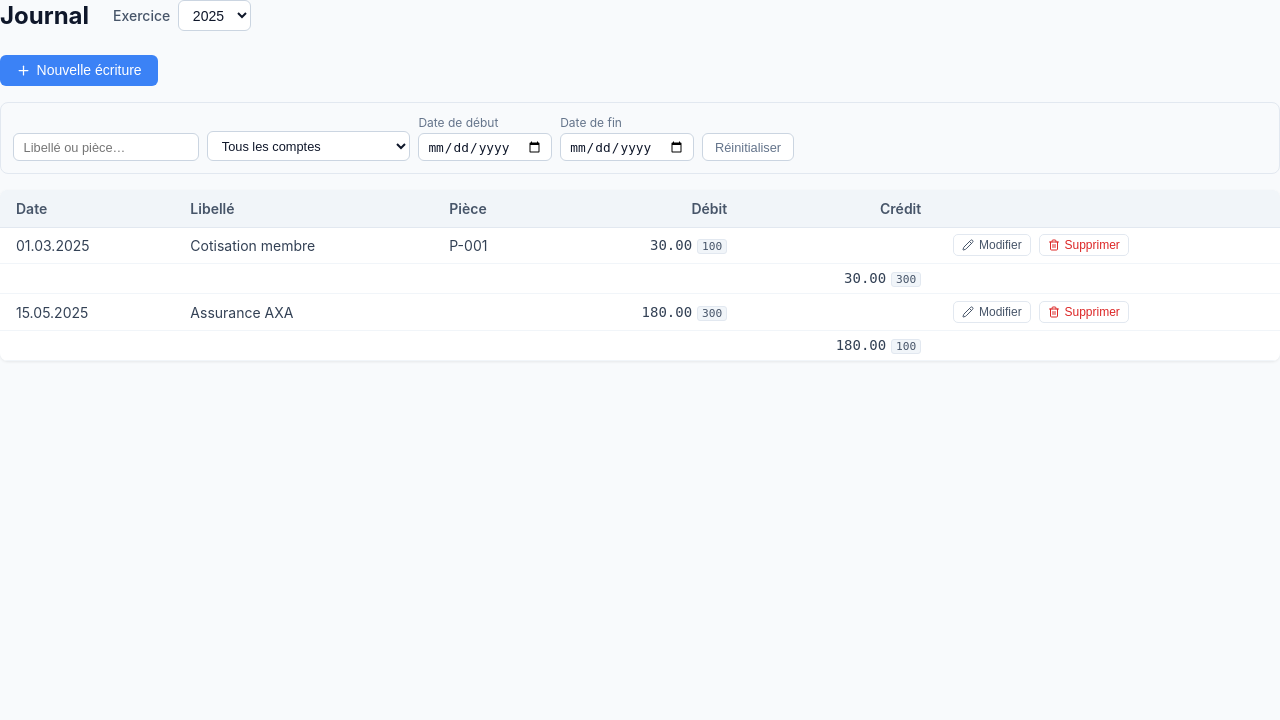
Test: JournalPage — boutons Modifier et Supprimer › clic Supprimer ouvre la boîte de confirmation
This screenshot has width=1280, height=720.
Check: the text "Cotisation membre" is shown, box [174,227,433,263]
Click the button "Supprimer" in the row of "01.03.2025": (1084, 245) [1039,234,1129,256]
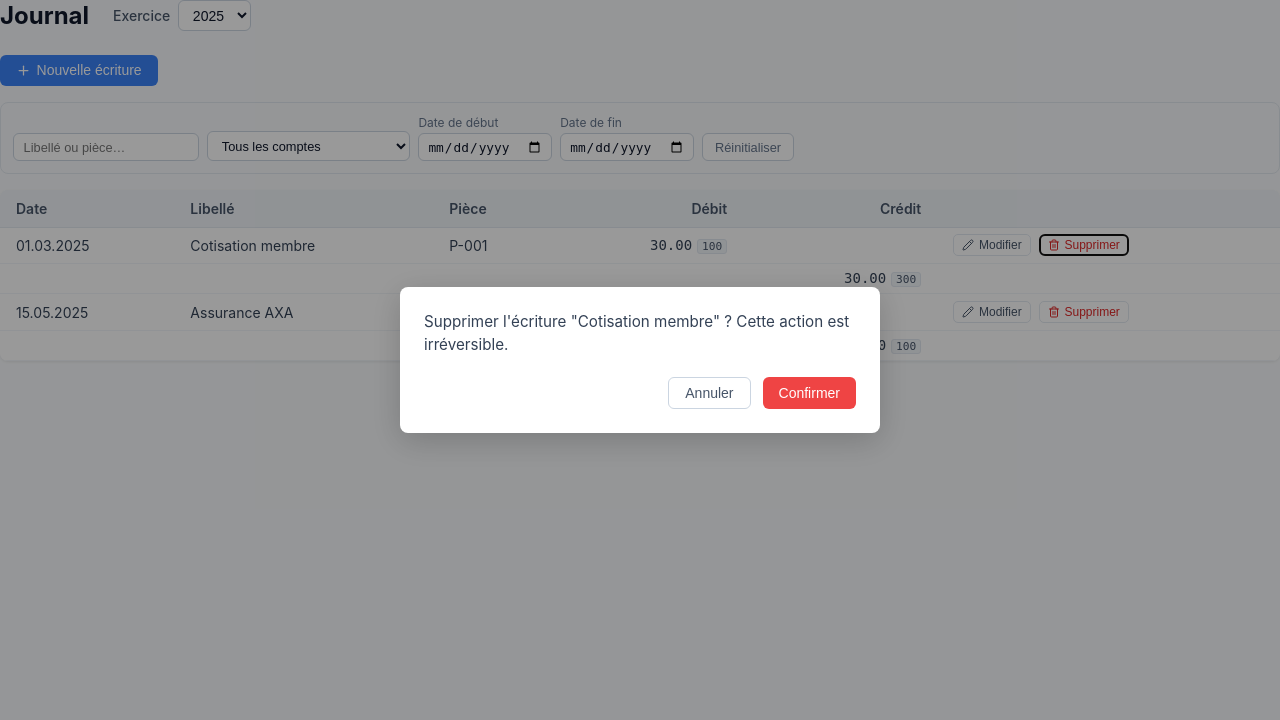
Check: the dialog is shown, box [400,287,880,433]
